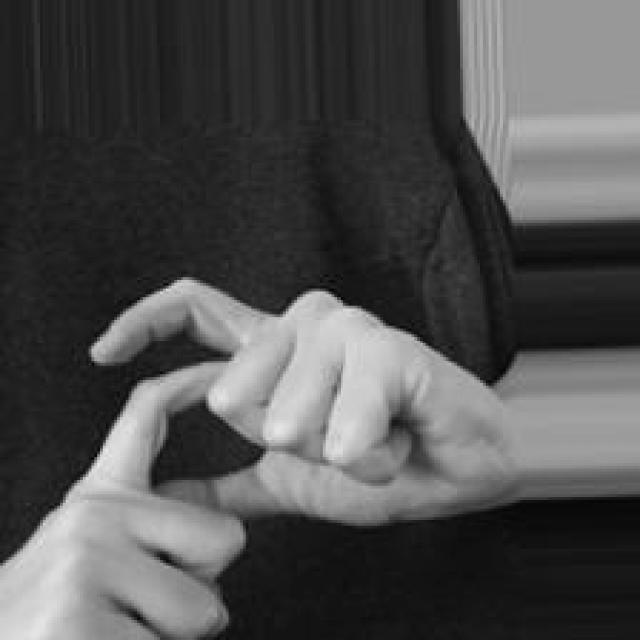G: (0, 268, 511, 640)
